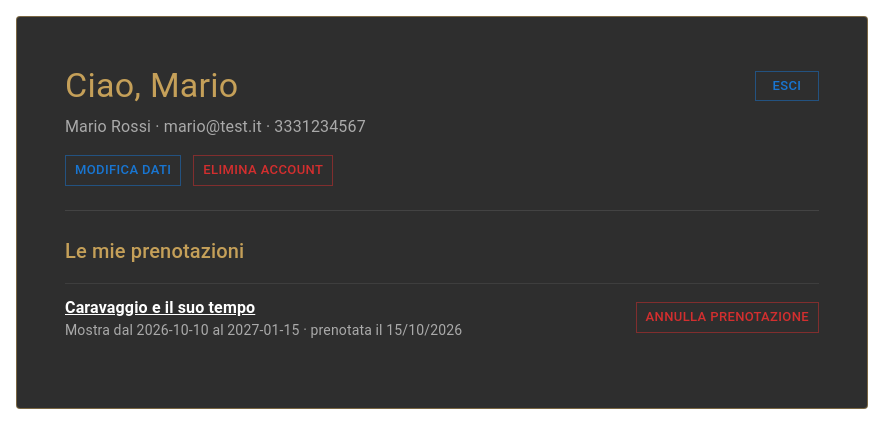
AreaPersonale › annulla una prenotazione dopo la conferma e mostra il messaggio dell'email
Step 1. Click the button with aria-label "Annulla la prenotazione di Caravaggio e il suo tempo" → [727, 318], box [636,302,819,333]
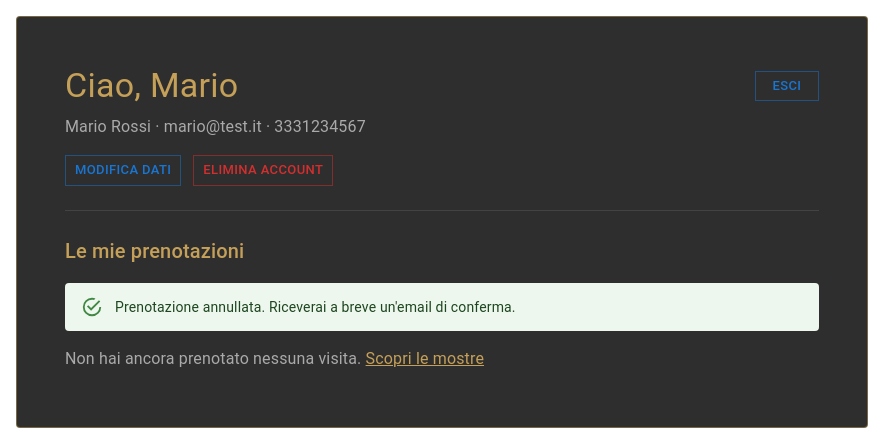
Check: the text "Prenotazione annullata" is shown, box [115,299,516,315]
Check: the link "Caravaggio e il suo tempo" is gone
